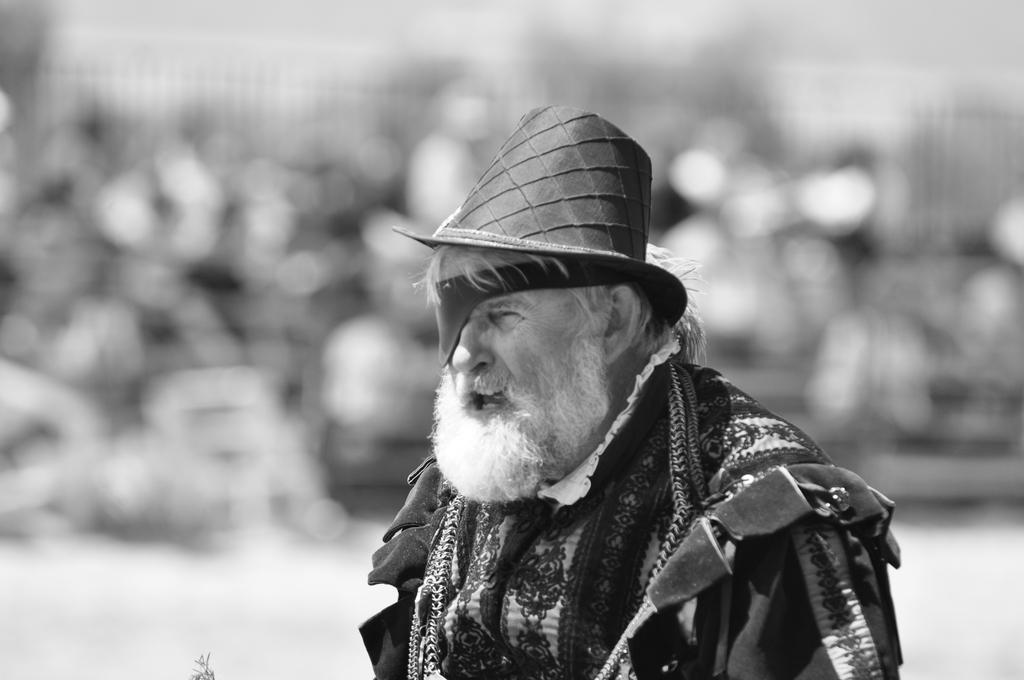Hat: (390, 102, 688, 336)
